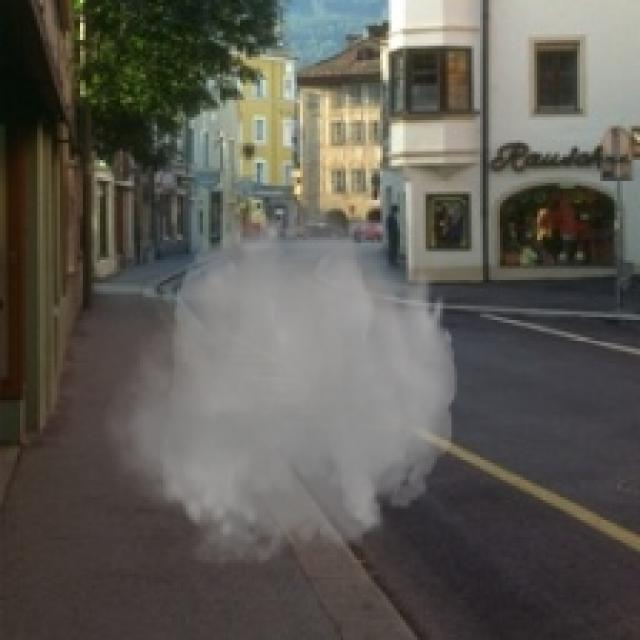Smoke: (103, 163, 466, 583)
